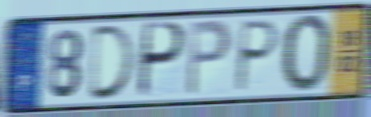8: (46, 26, 85, 101)
D: (86, 22, 139, 103)
O: (280, 12, 334, 96)
P: (135, 20, 187, 101), (184, 18, 234, 99), (232, 18, 282, 95)
